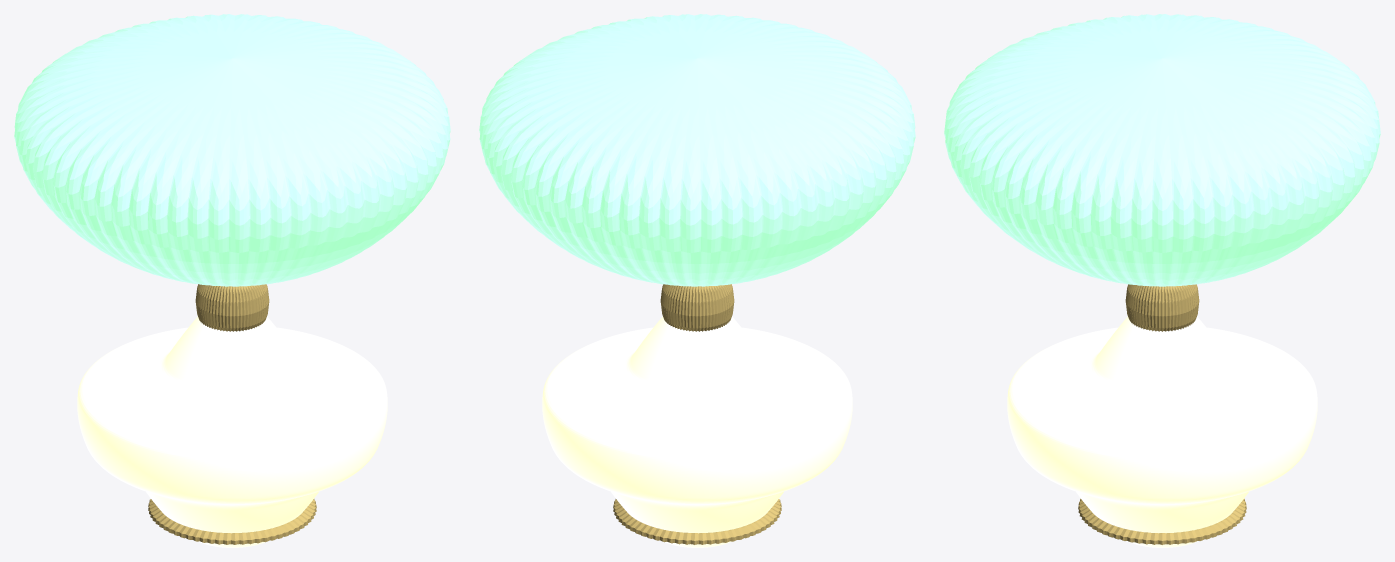
3 renders of one model, left to right at view 1: azimuth 30°, elevation 25°; view 2: azimuth 150°, elevation 25°; view 3: azimuth 270°, elevation 25°, orthographic.
Visible parts, largest first — view 1: Green_Glass_Shade, Amber_Bulb, Brass_Neck, Brass_Base; view 2: Green_Glass_Shade, Amber_Bulb, Brass_Neck, Brass_Base; view 3: Green_Glass_Shade, Amber_Bulb, Brass_Neck, Brass_Base.
Boxes of the visible parts, x1,y1,x2,y2 form: Green_Glass_Shade: [14, 14, 450, 286]; Amber_Bulb: [77, 316, 387, 547]; Brass_Neck: [195, 284, 269, 331]; Brass_Base: [148, 499, 316, 544]; Green_Glass_Shade: [479, 14, 915, 286]; Amber_Bulb: [542, 316, 852, 547]; Brass_Neck: [660, 284, 734, 331]; Brass_Base: [613, 499, 781, 544]; Green_Glass_Shade: [944, 14, 1380, 286]; Amber_Bulb: [1007, 316, 1317, 547]; Brass_Neck: [1125, 284, 1199, 331]; Brass_Base: [1078, 498, 1246, 544].
Size of the model in its own units: 2.46 by 2.94 by 2.46.
